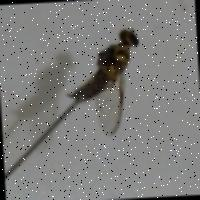Oriental-fruit-fly: (48, 17, 158, 150)
